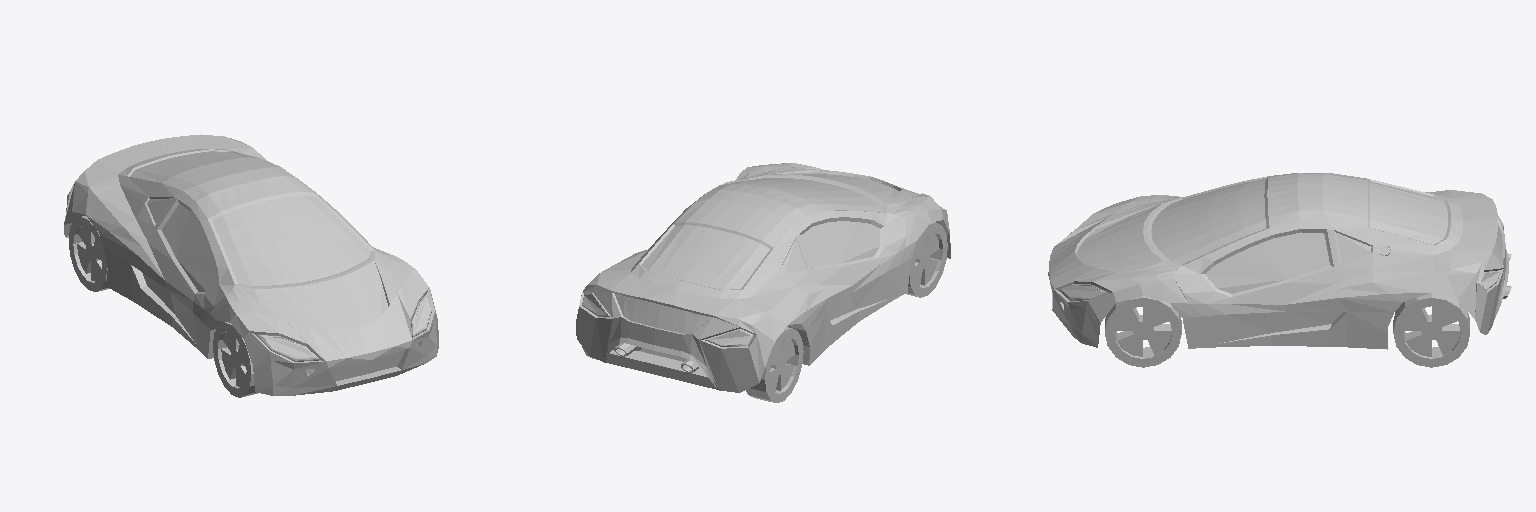
The model's file is car.obj.
The picture shows the model from 3 angles: view 1: azimuth 30°, elevation 25°; view 2: azimuth 150°, elevation 25°; view 3: azimuth 270°, elevation 25°; orthographic projection.
Visible parts, largest first — view 1: car; view 2: car; view 3: car.
Part boxes in pixels (left/top/right/bottom): car: left=64, top=134, right=438, bottom=397; car: left=576, top=163, right=950, bottom=402; car: left=1048, top=173, right=1511, bottom=367.
Bounding box in the file's own units: 1.43 × 0.9606 × 3.02.